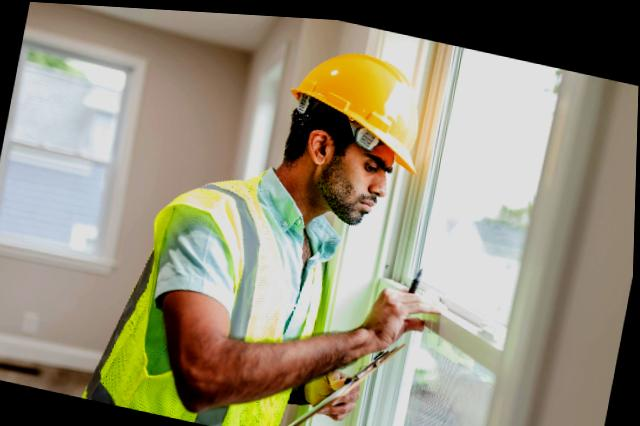helmet: (267, 28, 442, 177)
vest: (98, 143, 359, 426)
